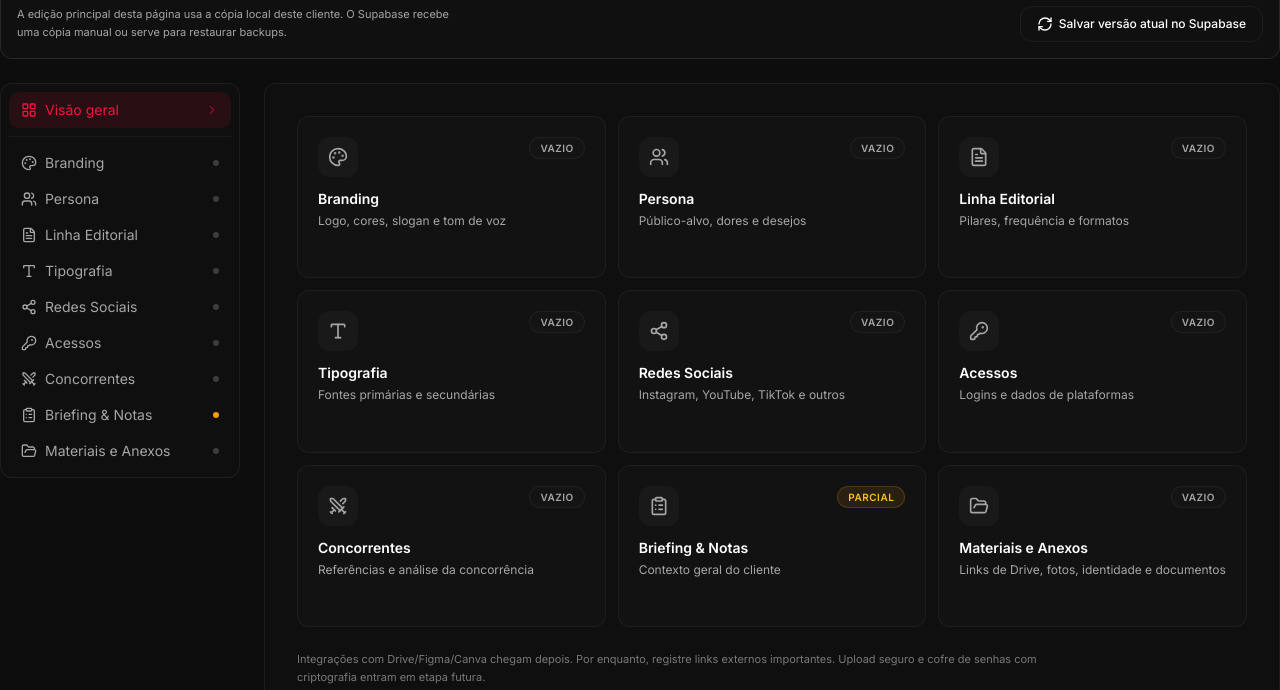
ClientTechnicalSheet — G82 (cliente legado importado: local id 7 ↔ uuid no mapa) › rollback por cliente (seletor "local" explícito): a ficha local do cliente 7 é carregada e salvar chama updateClient(7), nunca o upsert da nuvem
The width and height of the screenshot is (1280, 690).
Later steps or results of the test are not shown.
(page scrolled)
Step 1. Click the button "Briefing & Notas" → (120, 415), box [9,397,231,433]
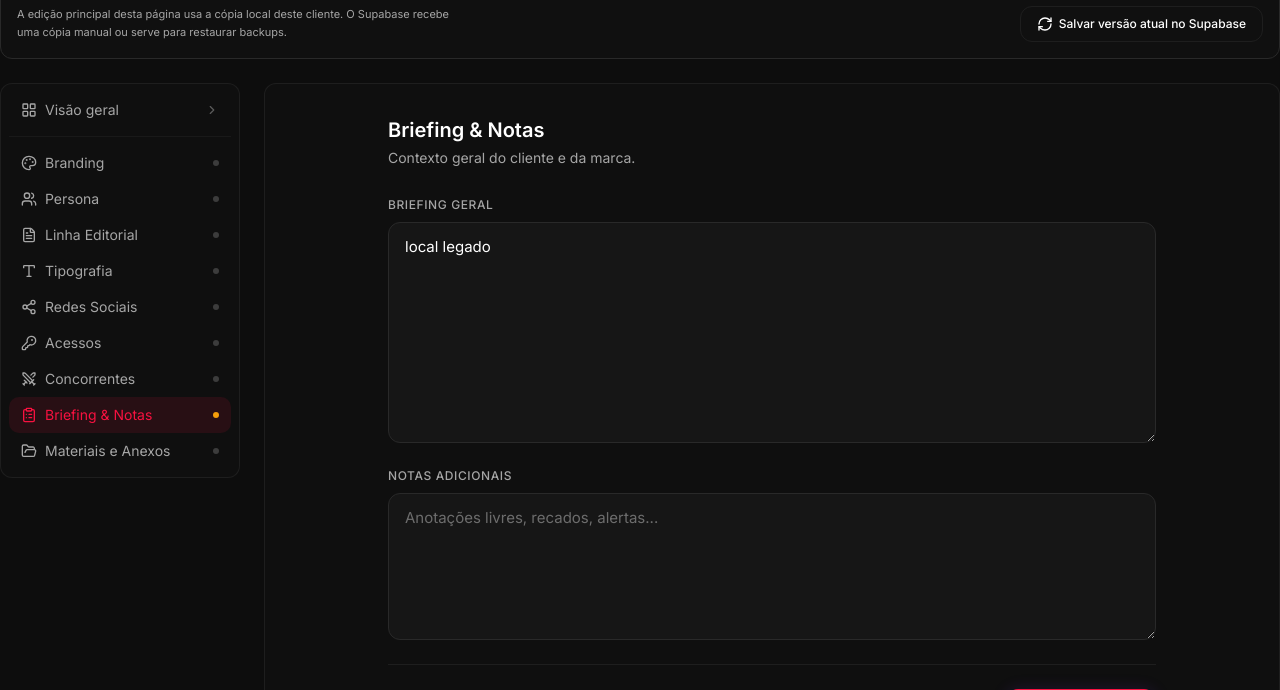
Expected: the text box with placeholder "Histórico, objetivos" holds "local legado", [388,222,1156,443]
